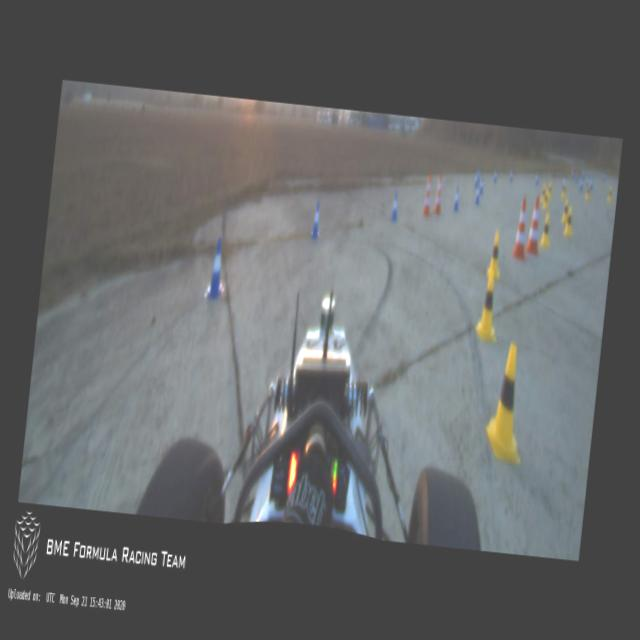blue_cone: (204, 238, 228, 300), (309, 200, 323, 238), (390, 191, 400, 221), (452, 186, 461, 210), (474, 185, 481, 204), (492, 168, 498, 184), (479, 176, 484, 194), (474, 172, 478, 188)
large_orange_cone: (511, 196, 531, 259), (524, 196, 542, 254), (432, 168, 446, 215), (422, 170, 434, 217)
yellow_cone: (484, 340, 532, 464), (474, 268, 504, 342), (486, 230, 504, 278), (538, 213, 552, 248), (560, 197, 569, 225), (564, 208, 573, 235), (542, 188, 550, 212), (547, 180, 553, 199), (540, 185, 546, 202)
